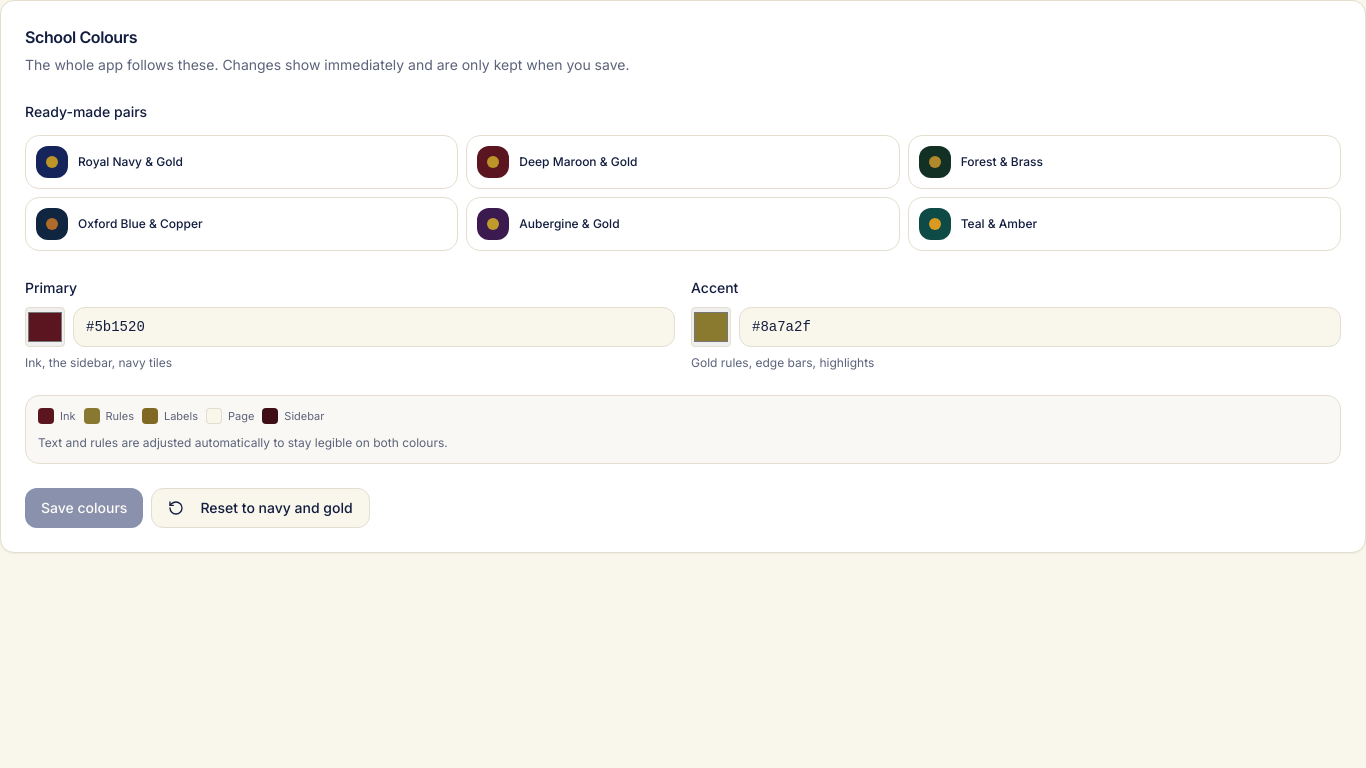
Test: BrandColorsCard › resets to navy and gold
Expected: the field labelled "Primary" holds "#5b1520", top-left (73, 307), bottom-right (675, 347)
Click the button "Reset to navy and gold" at (261, 508), box top-left (151, 488), bottom-right (370, 528)
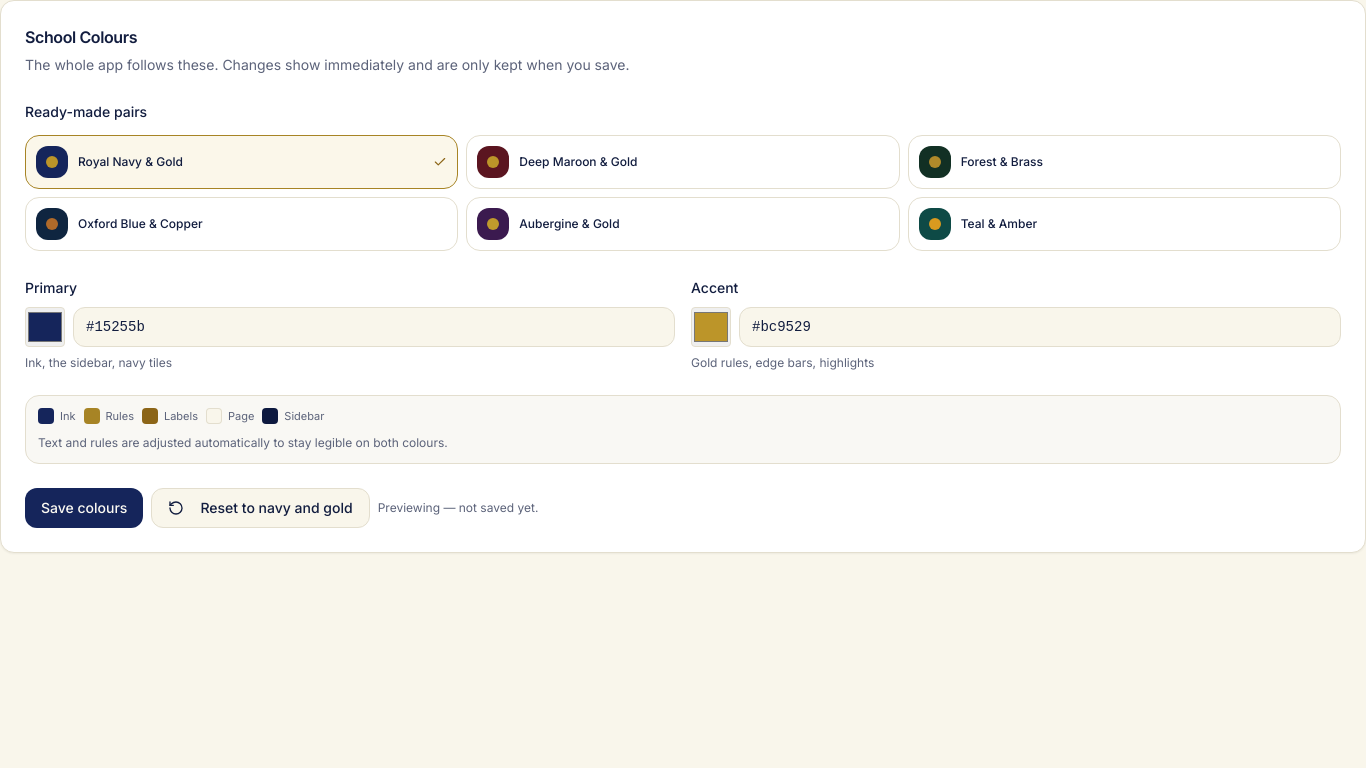
Now the field labelled "Primary" holds "#15255b", box top-left (73, 307), bottom-right (675, 347)
Now the field labelled "Accent" holds "#bc9529", box top-left (739, 307), bottom-right (1341, 347)
